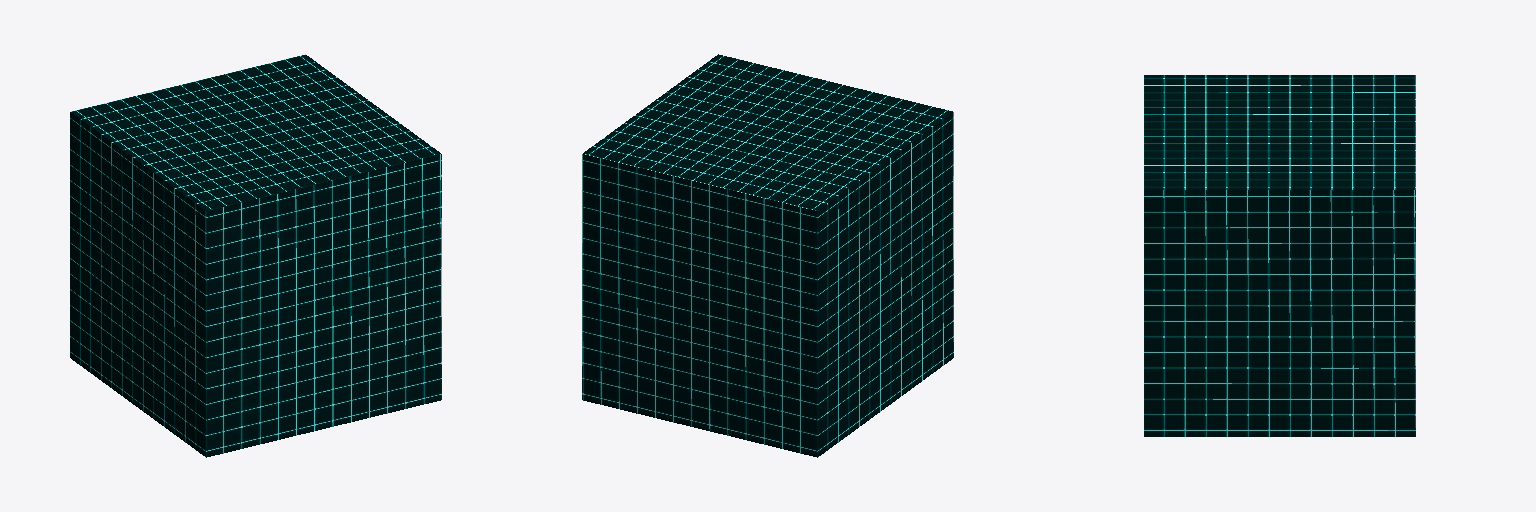
The picture shows the model from 3 angles: view 1: azimuth 30°, elevation 25°; view 2: azimuth 150°, elevation 25°; view 3: azimuth 270°, elevation 25°; orthographic projection.
Parts seen in each view (by area): view 1: Cube; view 2: Cube; view 3: Cube.
Part boxes in pixels (bbox=[...]): Cube: bbox=[70, 54, 441, 457]; Cube: bbox=[582, 54, 953, 457]; Cube: bbox=[1144, 75, 1415, 436].
Size of the model in its own units: 100 by 100 by 100.
Materials: 1 (1 with a texture image).